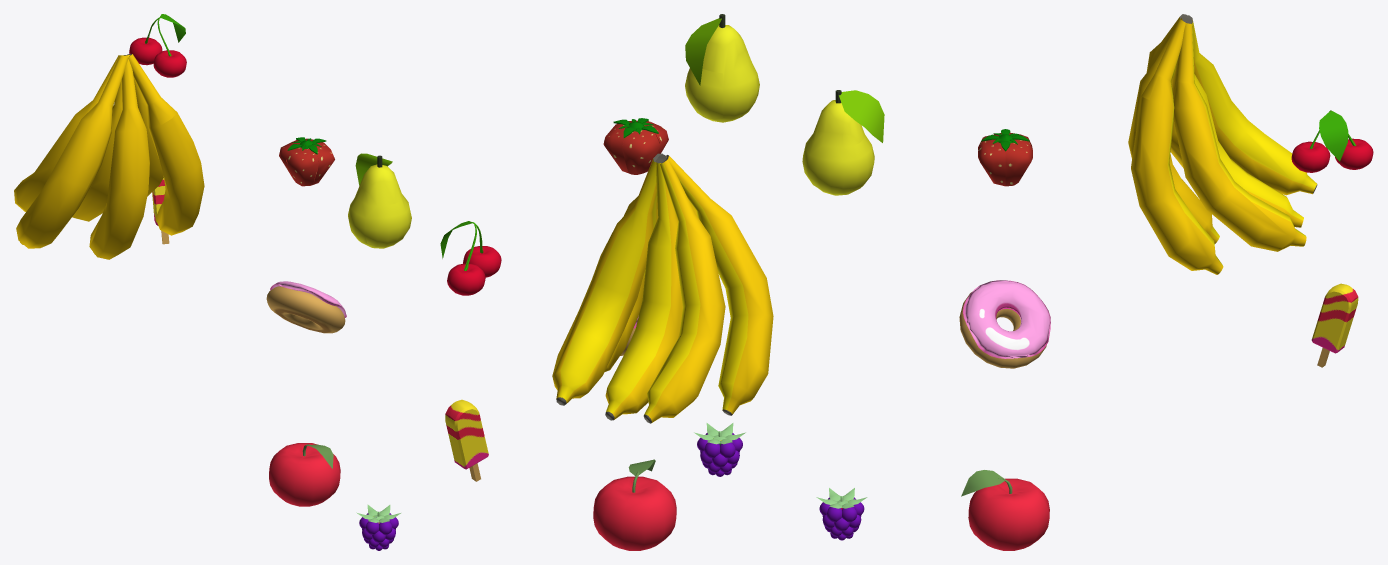
File: FoodNew.fbx
3 renders of one model, left to right at view 1: azimuth 30°, elevation 25°; view 2: azimuth 150°, elevation 25°; view 3: azimuth 270°, elevation 25°, orthographic. The views are drawn at different scales.
Parts seen in each view (by area): view 1: Object_67, Pear, Apple, Donut, Strawberry, Cherry, Blackberry; view 2: Object_67, Pear, Apple, Strawberry, Icecream, Cherry, Blackberry; view 3: Object_67, Pear, Donut, Apple, Cherry, Strawberry, Icecream, Blackberry.
Part boxes in pixels (<box>): Object_67: <box>14,53,204,259</box>; Pear: <box>348,153,411,248</box>; Apple: <box>269,443,340,506</box>; Donut: <box>266,281,346,333</box>; Strawberry: <box>279,137,334,186</box>; Cherry: <box>129,14,186,77</box>; Blackberry: <box>356,504,400,550</box>; Object_67: <box>552,153,773,423</box>; Pear: <box>685,14,759,122</box>; Apple: <box>593,459,676,550</box>; Strawberry: <box>603,118,668,174</box>; Icecream: <box>445,399,488,481</box>; Cherry: <box>440,221,501,295</box>; Blackberry: <box>694,423,745,476</box>; Object_67: <box>1128,14,1317,274</box>; Pear: <box>802,90,884,195</box>; Donut: <box>959,280,1050,368</box>; Apple: <box>961,470,1049,550</box>; Cherry: <box>1291,110,1373,172</box>; Strawberry: <box>978,129,1032,186</box>; Icecream: <box>1311,283,1358,367</box>; Blackberry: <box>816,488,867,540</box>.
Size of the model in its own units: 2.76 by 4.79 by 5.23.
